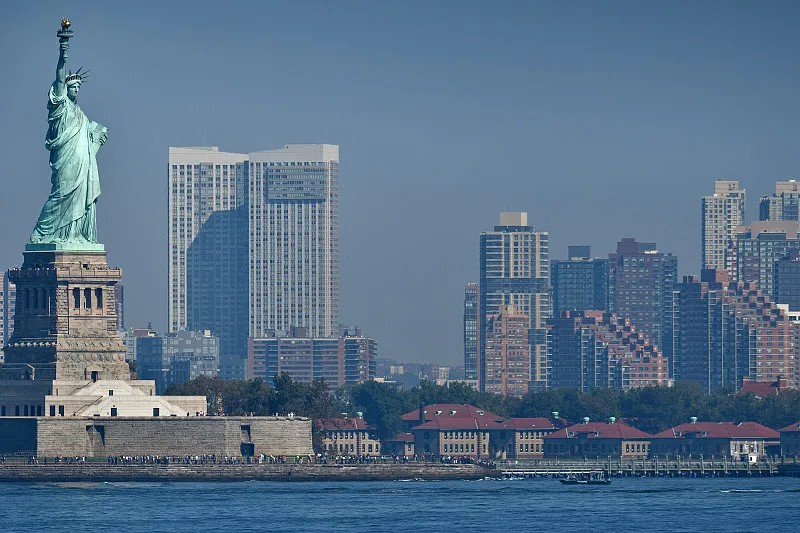SL: (8, 17, 131, 380)
